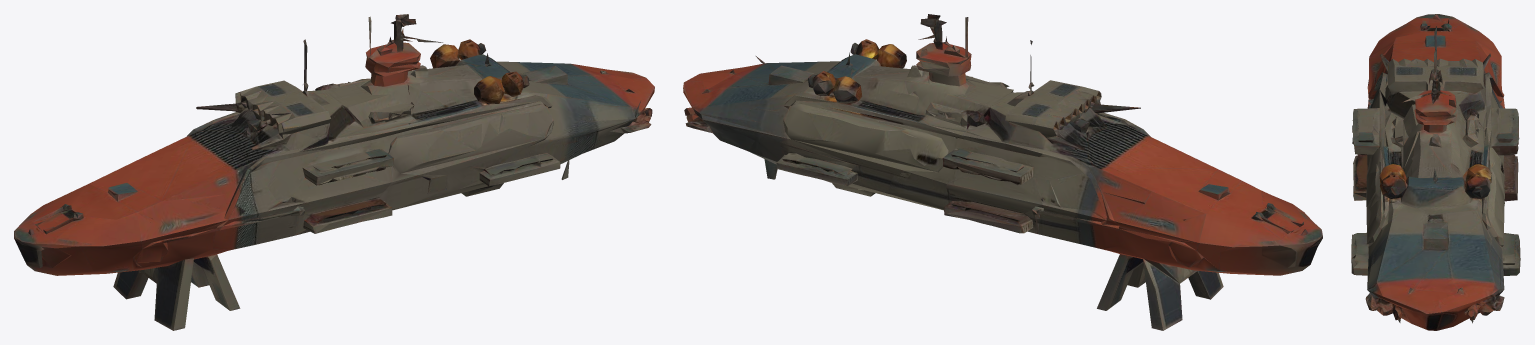
File: nation-r-cruiser.glb
The picture shows the model from 3 angles, left to right: view 1: azimuth 30°, elevation 25°; view 2: azimuth 150°, elevation 25°; view 3: azimuth 270°, elevation 25°; orthographic projection.
Size of the model in its own units: 1.89 by 0.6803 by 0.4474.
Materials: 1 (1 with a texture image).
